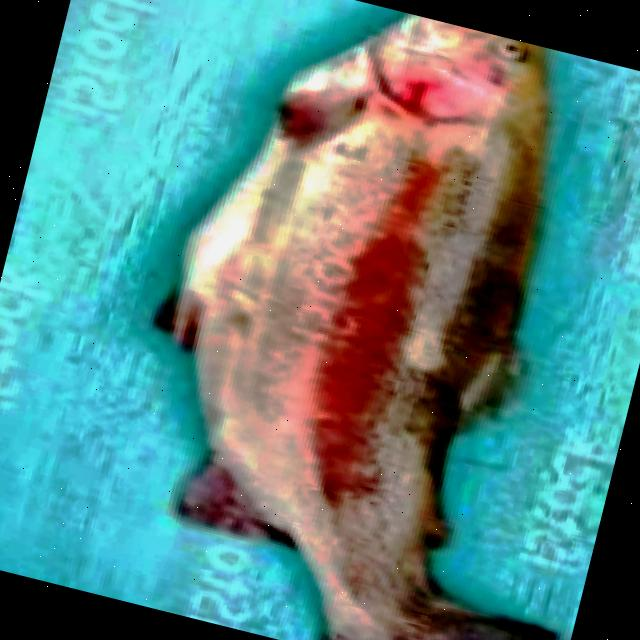Columnaris Disease: (152, 14, 554, 640), (155, 13, 548, 640)
